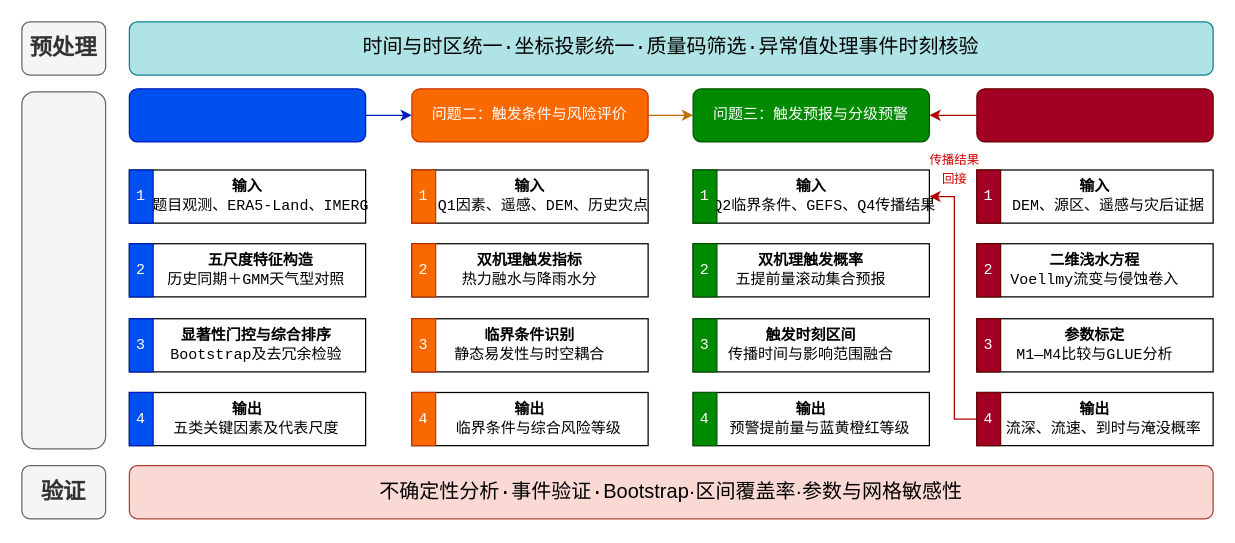
Some shapes in this 1235 by 543 pixel diagram are drawn without their labels. Here are the shapes that lost their labels. From the top down, the centre of each, then its label:
At pixel 247 115: "问题一：主要影响因素识别".
At pixel 1094 115: "问题四：灾害链动力学仿真".
At pixel 63 270: "模型的建立".
